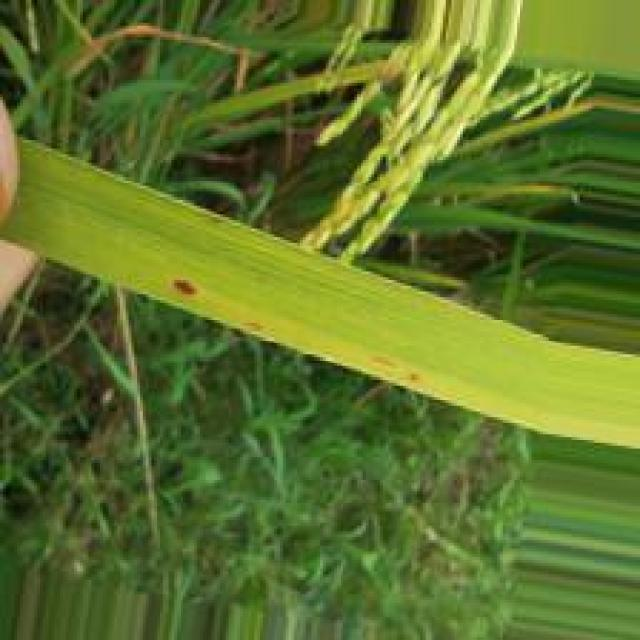Brown_Spot: (178, 278, 196, 294)
